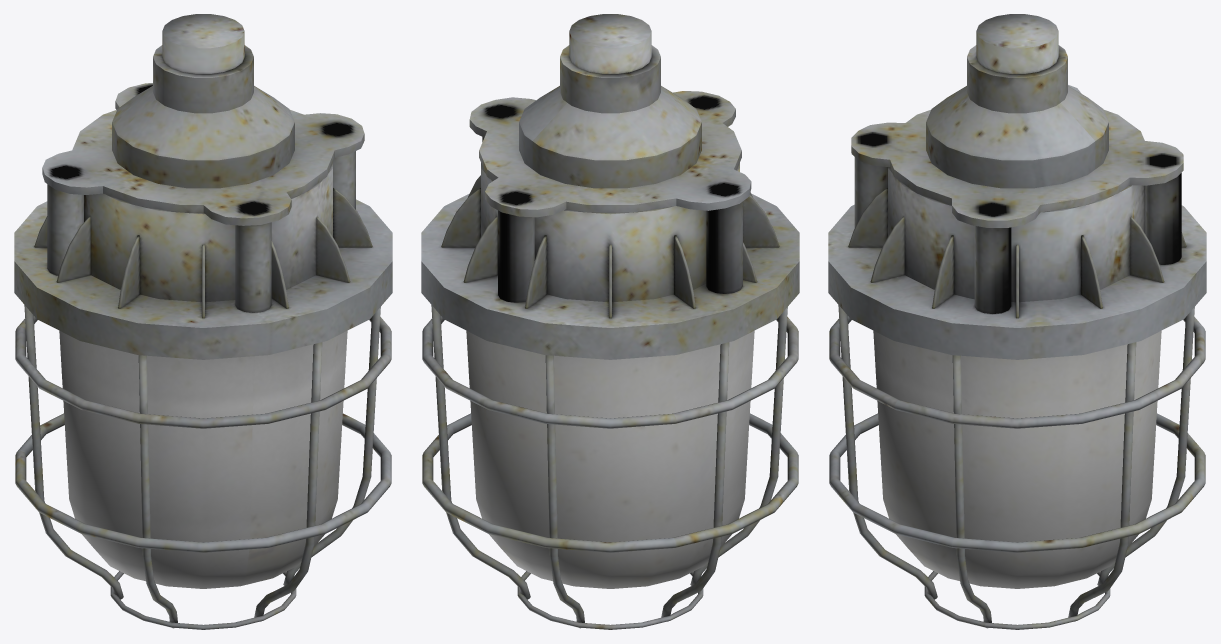
File: Light_01.FBX
3 renders of one model, left to right at view 1: azimuth 30°, elevation 25°; view 2: azimuth 150°, elevation 25°; view 3: azimuth 270°, elevation 25°, orthographic.
Visible parts, largest first — view 1: Light_01; view 2: Light_01; view 3: Light_01.
Part boxes in pixels (x1,y1,x2,y2): Light_01: [14, 14, 392, 629]; Light_01: [421, 14, 799, 629]; Light_01: [828, 14, 1206, 629].
Size of the model in its own units: 0.2053 by 0.3311 by 0.2022.
Materials: 1 (1 with a texture image).
